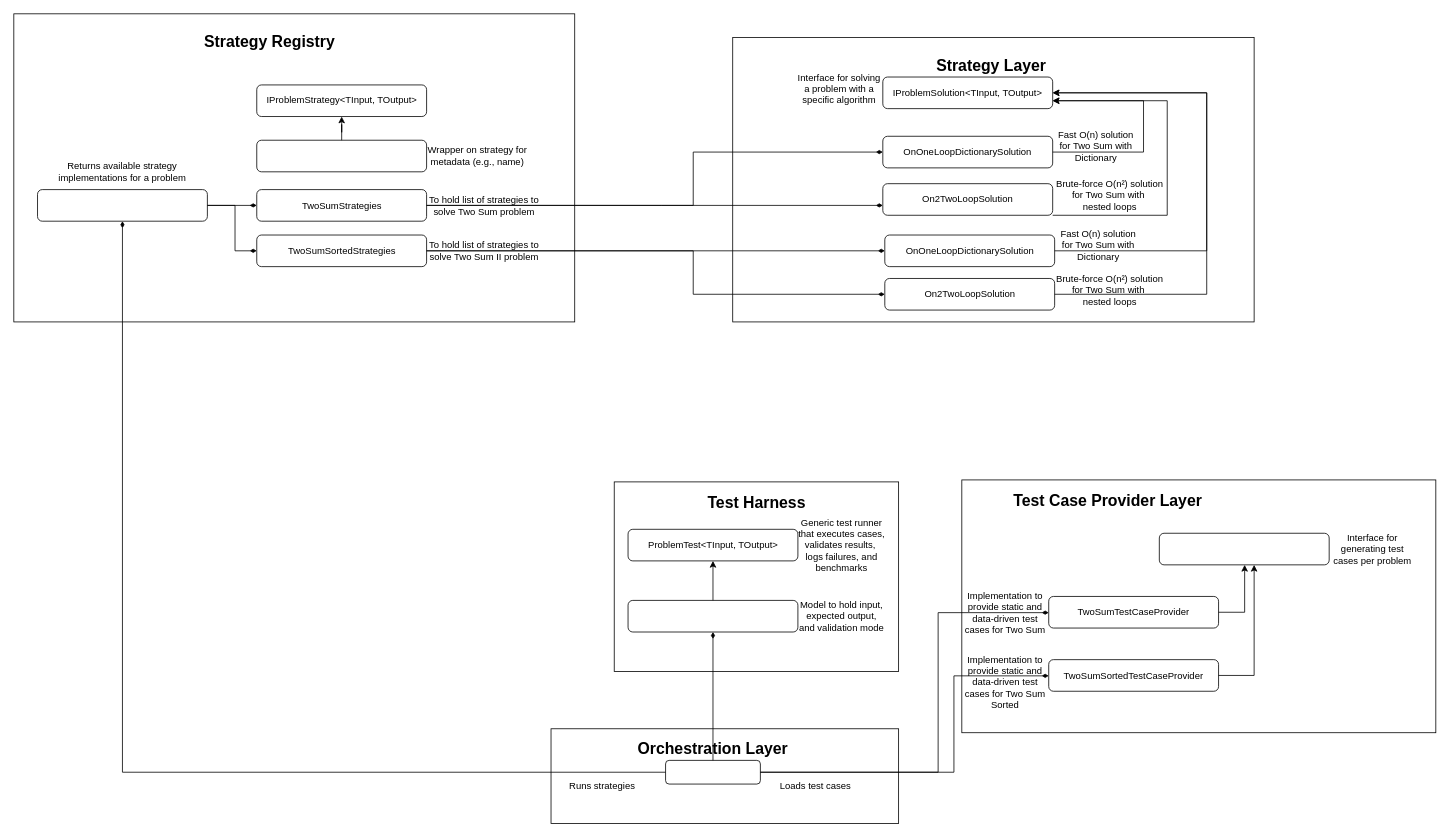
Some shapes in this 1450 by 837 pixel diagram are drawn without their labels. Here are the shapes that lost their labels. From the top down, the centre of each, then its label:
At point 341,155: "ProblemStrategy<TInput, TOutput>".
At point 122,205: "ProblemStrategyFactory".
At point 1244,548: "ITestCaseProvider<TInput, TOutput>".
At point 712,616: "TestCase".
At point 712,772: "Program.cs".
